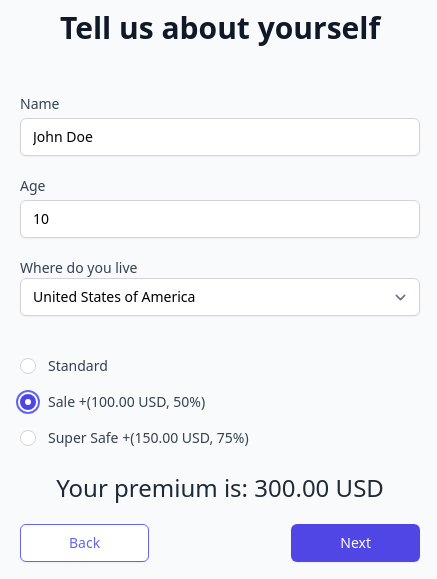
Start Page Spec › Complete form inputs › US premium should be 350 for 10yrs old - safe
Click the radio button labelled "Super Safe +(150.00 USD, 75%)" at (28, 438), box [20,430,36,446]
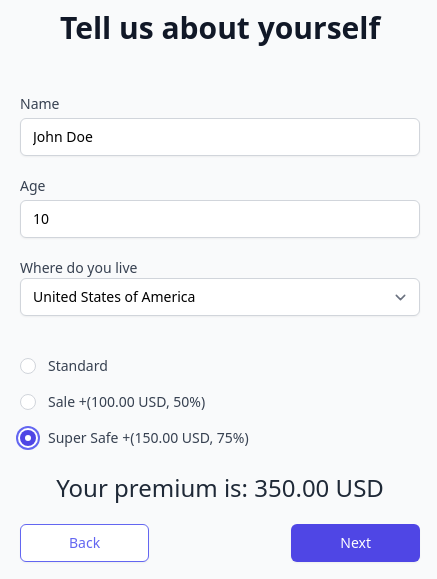
Expected: the heading "Your premium is: 350.00 USD" is shown, [56,471,384,504]
